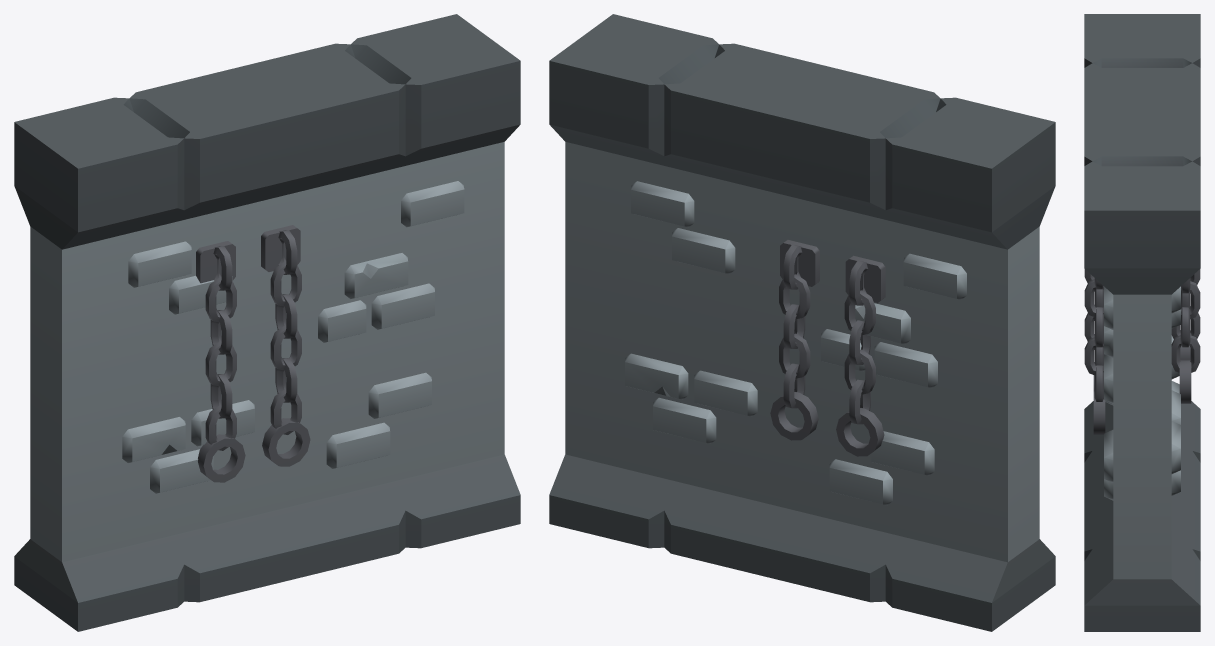
Rendered from wall_prison_D.glb.
3 views of the same model, side by side, from view 1: azimuth 30°, elevation 25°; view 2: azimuth 150°, elevation 25°; view 3: azimuth 270°, elevation 25° (orthographic). The views are drawn at different scales.
Visible parts, largest first — view 1: Item; view 2: Item; view 3: Item.
Part boxes in pixels (x1=…): Item: x1=14, y1=14, x2=520, y2=631; Item: x1=549, y1=14, x2=1055, y2=631; Item: x1=1084, y1=14, x2=1200, y2=631.
Bounding box in the file's own units: 4 × 4 × 1.
2 materials, 2 textured.
